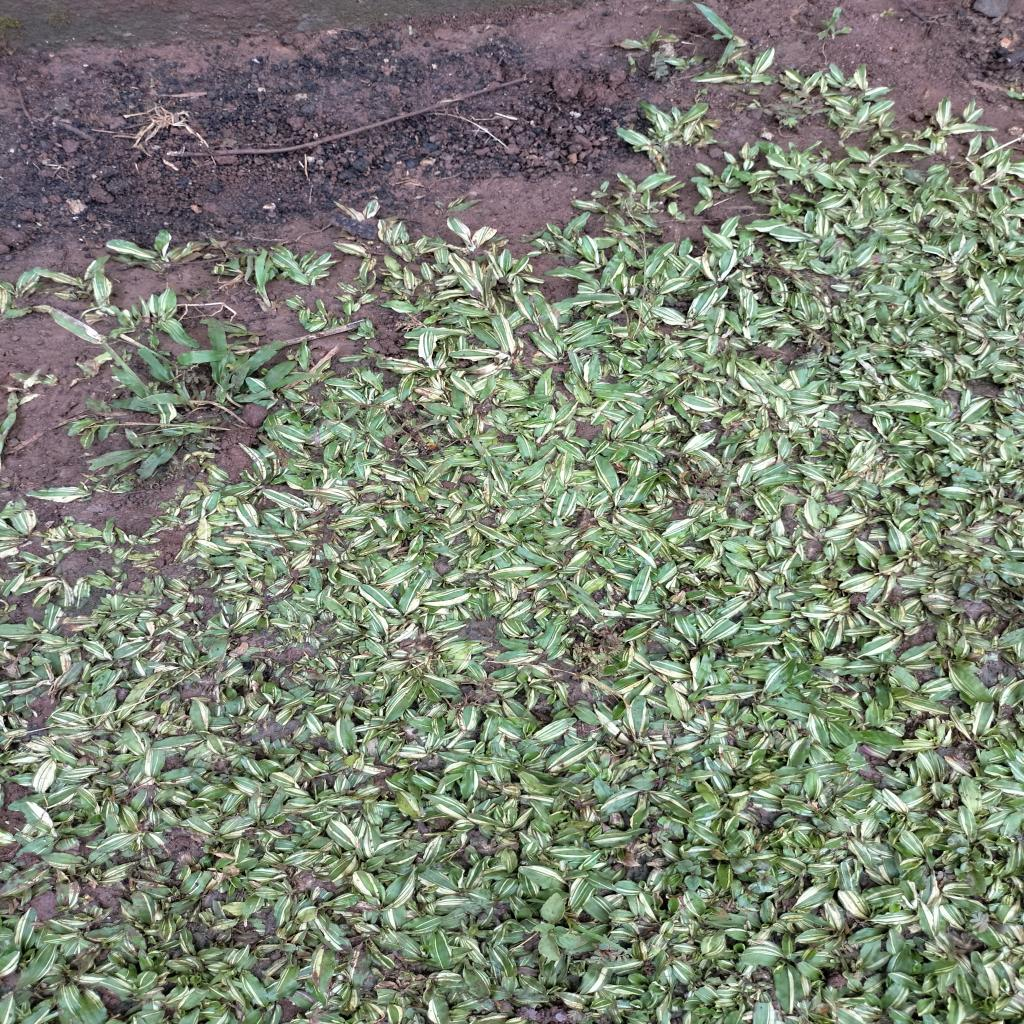bayi: (407, 24, 415, 36)
buah daun: (569, 626, 628, 680), (692, 470, 728, 506), (636, 829, 671, 859), (769, 104, 809, 130), (645, 49, 673, 81), (969, 909, 992, 934)
rambat atas: (559, 912, 631, 955)
rambat bawah: (205, 315, 334, 410), (86, 416, 228, 482), (106, 346, 204, 420), (693, 0, 754, 72), (248, 248, 284, 312), (822, 9, 858, 47)
ungu tunggang: (728, 854, 783, 896), (652, 743, 692, 790), (672, 856, 710, 894), (934, 459, 983, 487)
